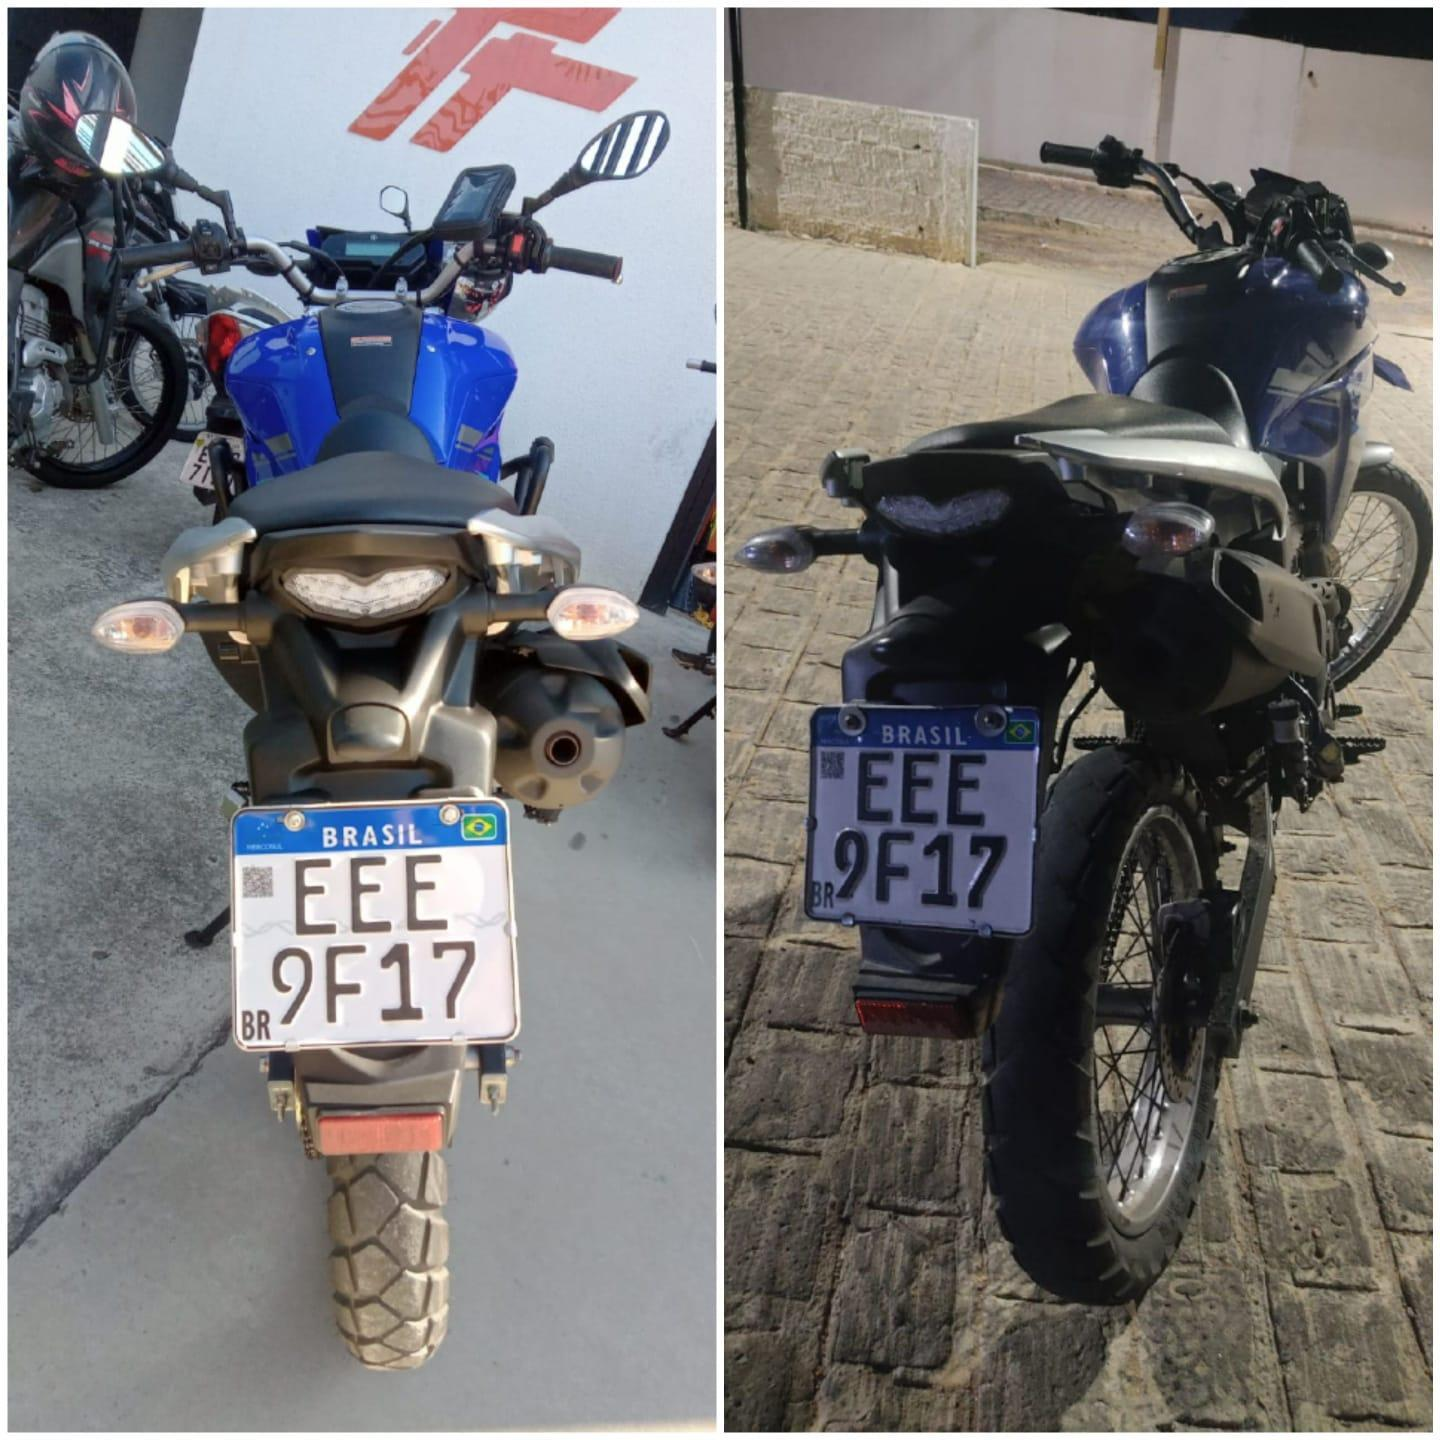placa de veiculo: (193, 755, 555, 1085), (776, 682, 1056, 950)
